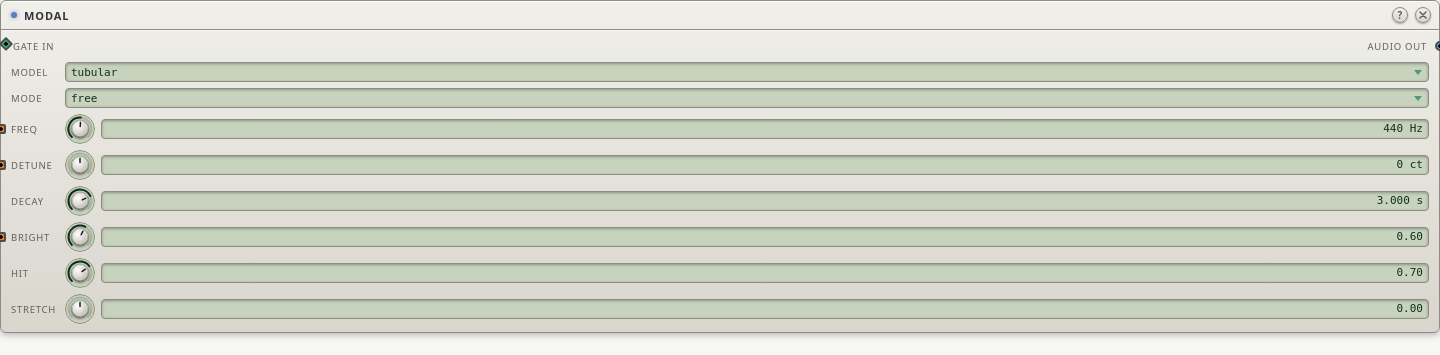
ModuleNode › the help of a module › under the pointer › shows it once the pointer rests on the question mark a moment
Hover over the button named "Help for Modal" at [1400, 15], box [1392,7,1408,23]
Wait 400 ms
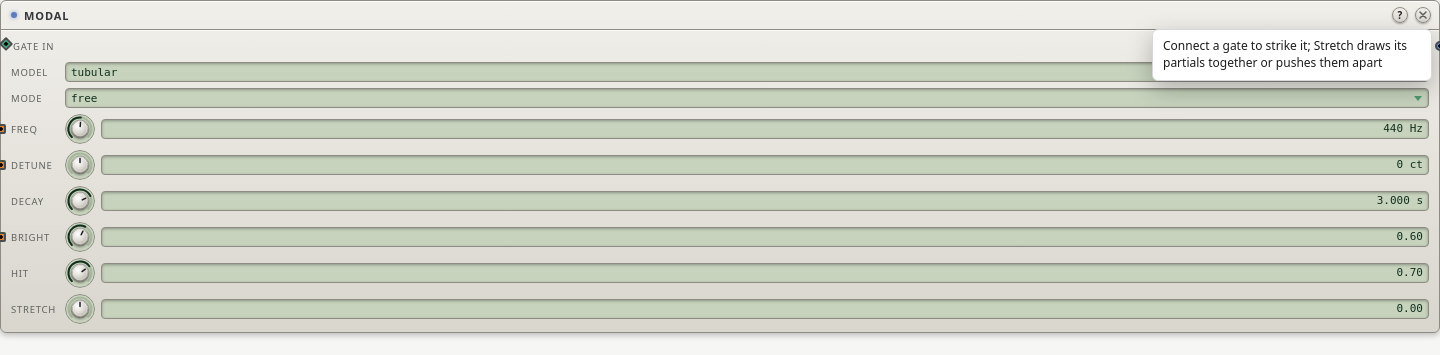
Expected: the tooltip shows "Connect a gate to strike it", [1163,37,1407,71]
Move the pointer off the button named "Help for Modal", box [1392,7,1408,23]
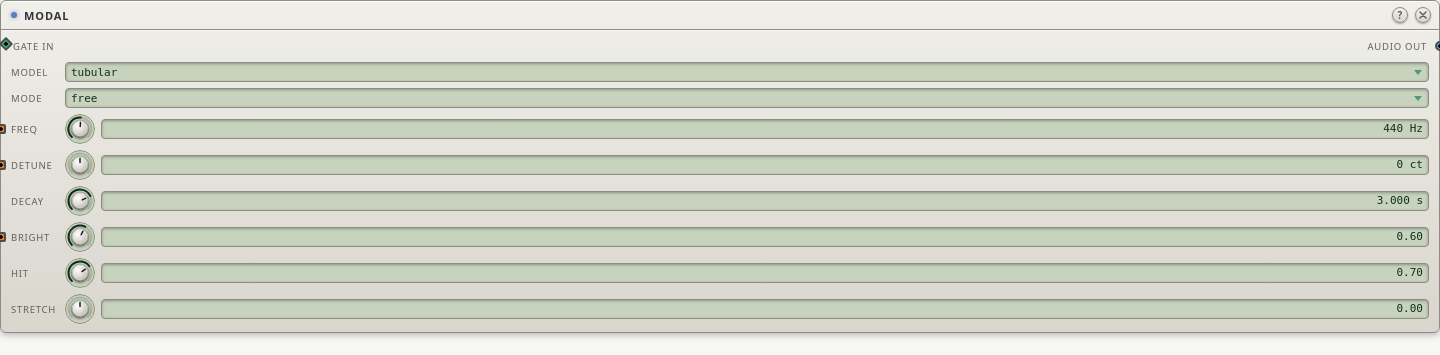
Expected: the tooltip "Connect a gate to strike it; Stretch draws its partials together or pushes them" is gone
